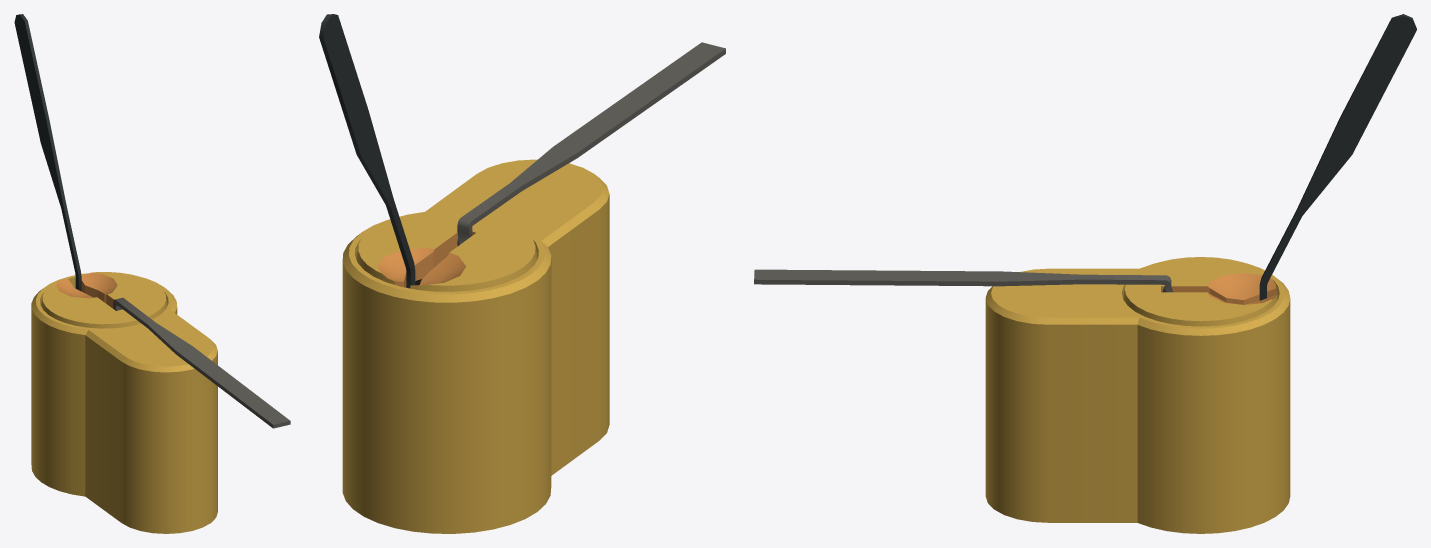
Rendered from FeatureDemoMechanisms.fbx.
3 views of the same model, side by side, from view 1: azimuth 30°, elevation 25°; view 2: azimuth 150°, elevation 25°; view 3: azimuth 270°, elevation 25° (orthographic). The views are drawn at different scales.
Parts seen in each view (by area): view 1: Mechanism_Lock, Mechanism_Lock_Barrel, Mechanism_Lock_Tensioner, Mechanism_Lock_Rake; view 2: Mechanism_Lock, Mechanism_Lock_Barrel, Mechanism_Lock_Tensioner, Mechanism_Lock_Rake; view 3: Mechanism_Lock, Mechanism_Lock_Barrel, Mechanism_Lock_Rake, Mechanism_Lock_Tensioner.
Boxes of the visible parts, bbox=[...] form: Mechanism_Lock: bbox=[31, 273, 217, 533]; Mechanism_Lock_Barrel: bbox=[41, 272, 167, 328]; Mechanism_Lock_Tensioner: bbox=[113, 297, 290, 428]; Mechanism_Lock_Rake: bbox=[14, 14, 81, 291]; Mechanism_Lock: bbox=[342, 159, 609, 533]; Mechanism_Lock_Barrel: bbox=[356, 210, 537, 291]; Mechanism_Lock_Tensioner: bbox=[457, 42, 725, 245]; Mechanism_Lock_Rake: bbox=[319, 14, 415, 288]; Mechanism_Lock: bbox=[985, 263, 1290, 533]; Mechanism_Lock_Barrel: bbox=[1123, 257, 1278, 326]; Mechanism_Lock_Rake: bbox=[1259, 14, 1416, 300]; Mechanism_Lock_Tensioner: bbox=[754, 269, 1172, 292].
Size of the model in its own units: 8 by 23.7 by 29.59.
